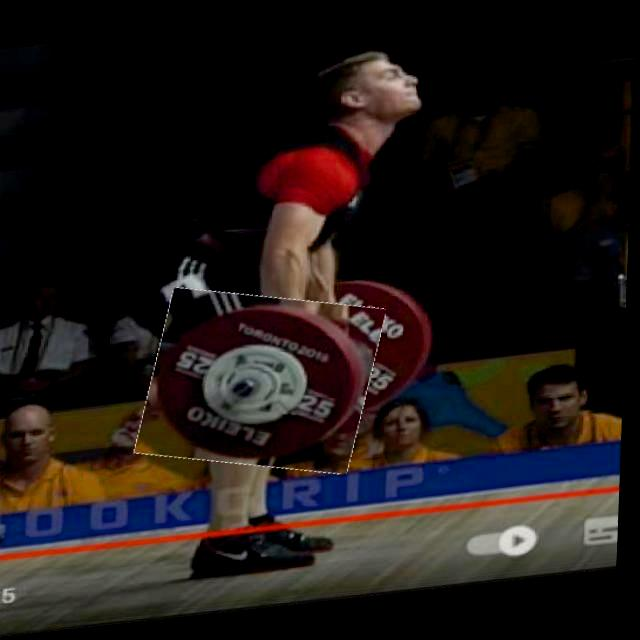barbell: (145, 286, 384, 490)
